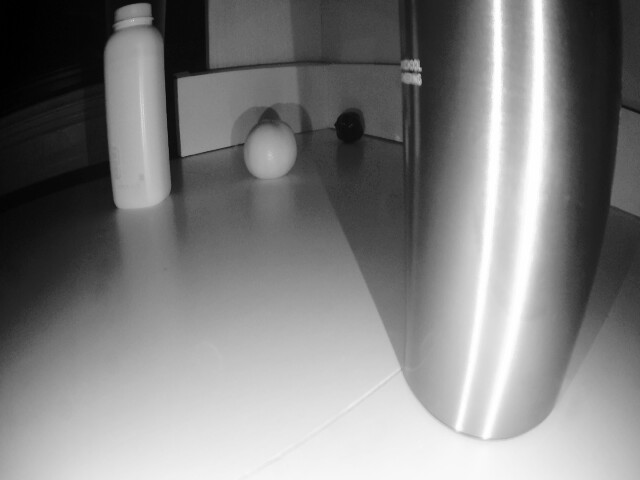black: (337, 107, 368, 144)
